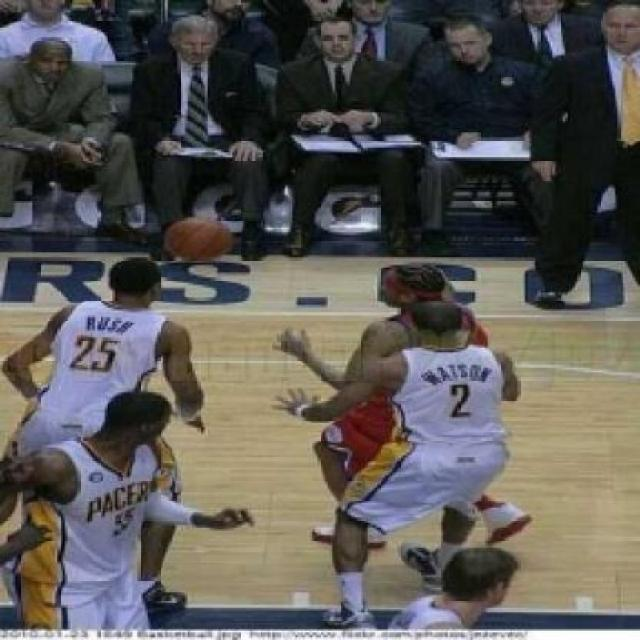basketball: (162, 211, 240, 273)
